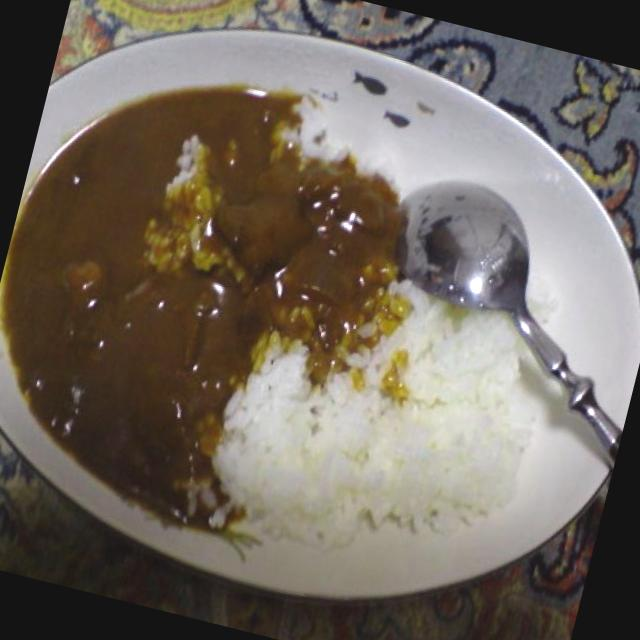Beef Curry: (0, 70, 403, 528)
Rice: (217, 269, 538, 573)
